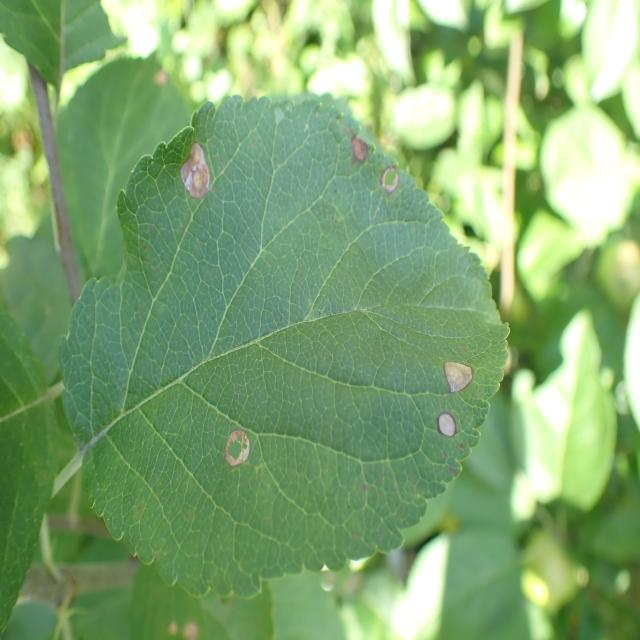Black Rot: (162, 103, 218, 220), (423, 400, 466, 482), (214, 409, 262, 482), (372, 134, 408, 206), (436, 352, 478, 412), (345, 113, 375, 190)
